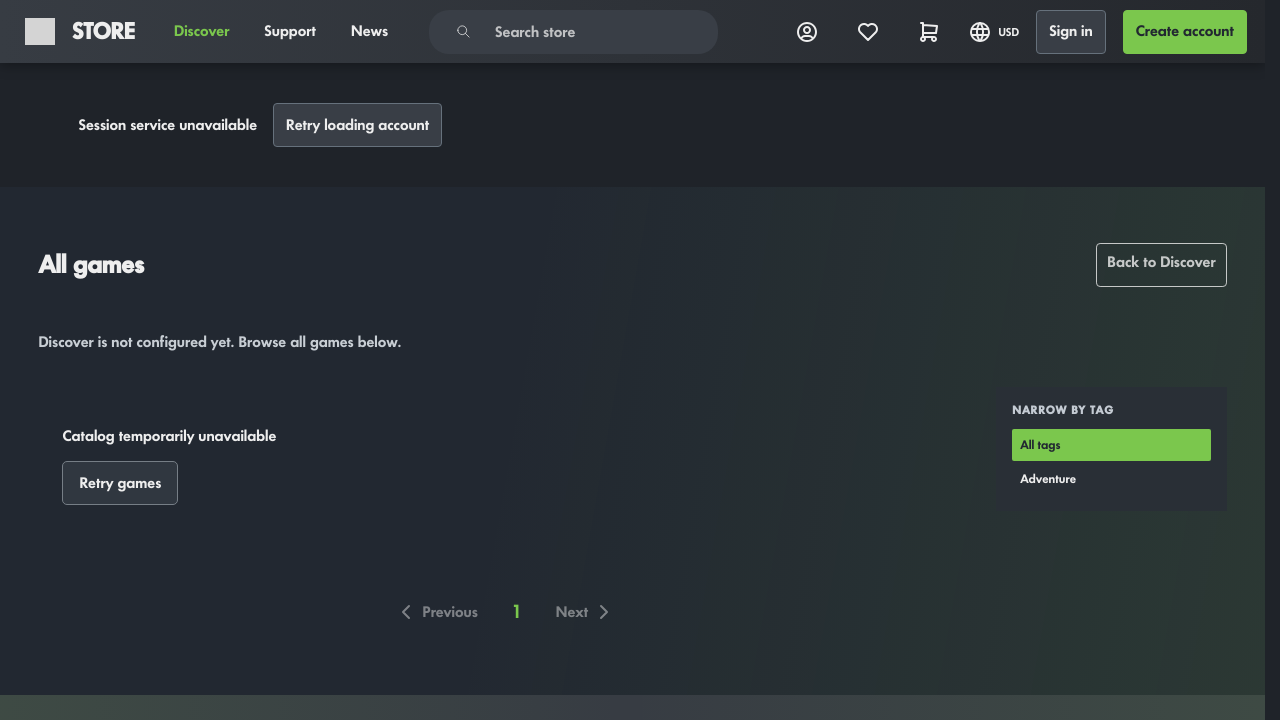
Scenario: catalog URL state (#22) › can retry a catalog API failure while the account service is unavailable
This screenshot has width=1280, height=720.
Click the button "Retry games". click: (120, 483)
box: [62, 461, 178, 505]
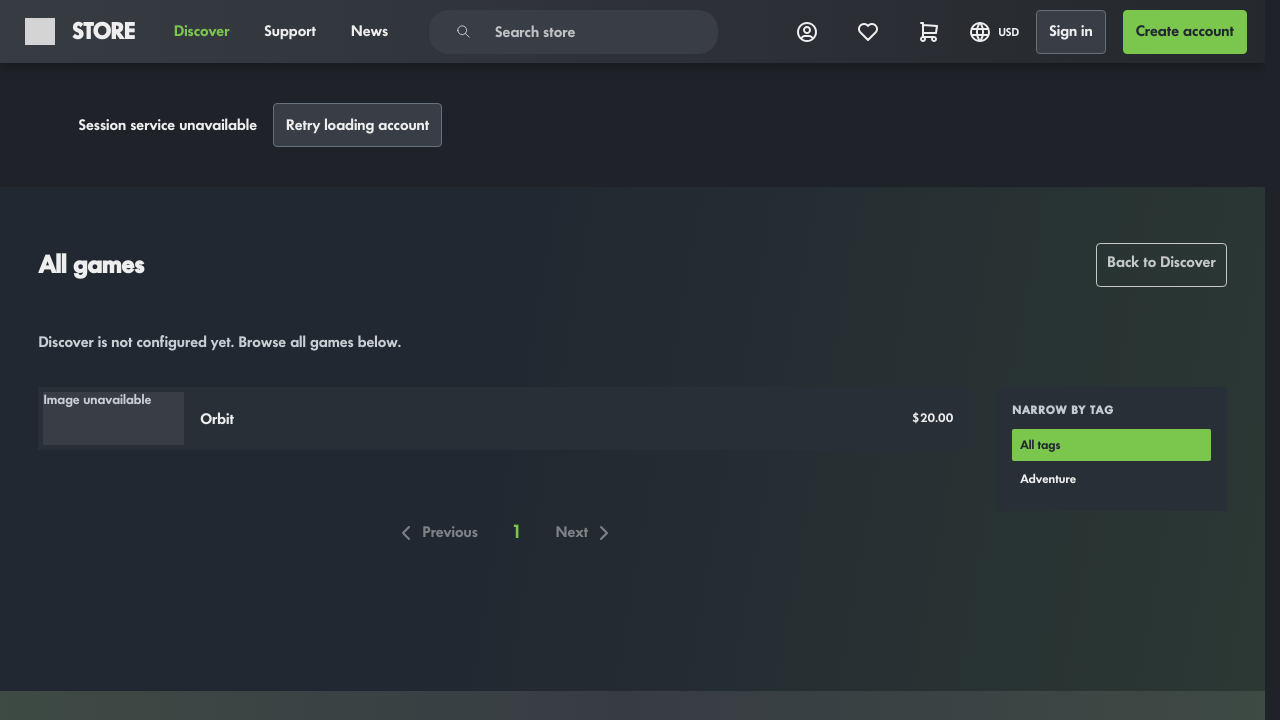
Expected: the link "Image unavailable Orbit $20.00" is shown, [38, 387, 972, 450]
Expected: the text "Catalog temporarily unavailable" is gone
